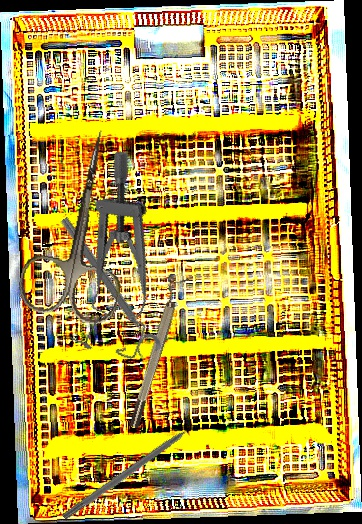Fixation Ring: (49, 213, 164, 362), (120, 272, 190, 430)
Hook Surgical: (61, 418, 204, 522)
Iris Scissors: (14, 119, 152, 329)
Speculum: (51, 147, 197, 366)
